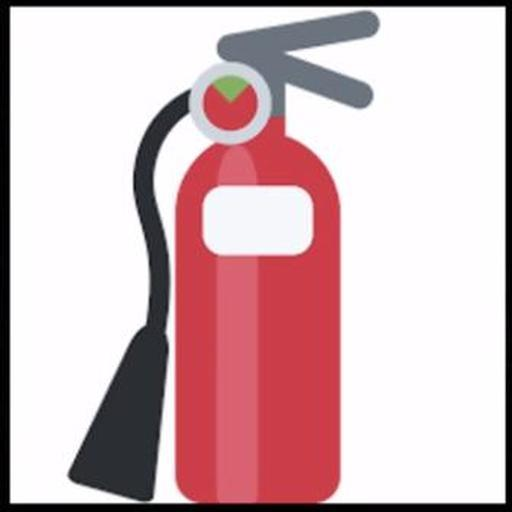Crewmate: (170, 141, 344, 503)
